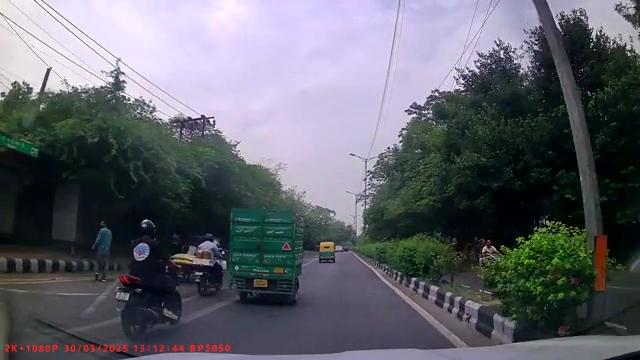motorcycle_with_helmet: (119, 215, 184, 343), (191, 230, 225, 298)
